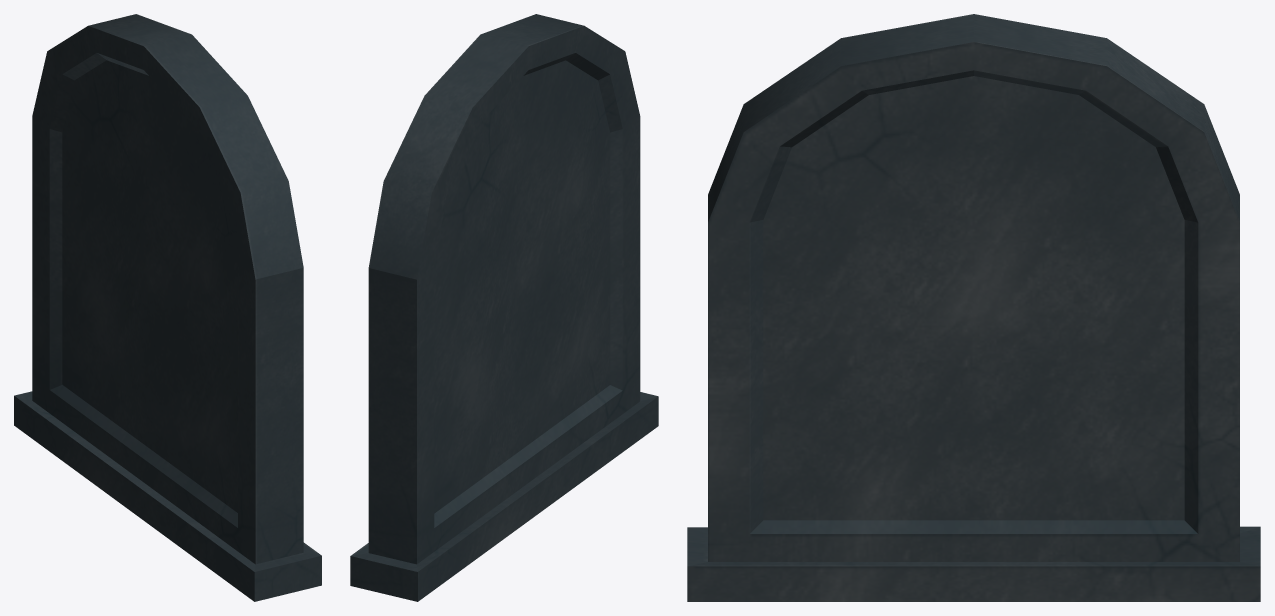
The model's file is Gravestone20_Model.fbx.
3 views of the same model, side by side, from view 1: azimuth 30°, elevation 25°; view 2: azimuth 150°, elevation 25°; view 3: azimuth 270°, elevation 25° (orthographic). The views are drawn at different scales.
Visible parts, largest first — view 1: Gravestone20; view 2: Gravestone20; view 3: Gravestone20.
Boxes of the visible parts, x1,y1,x2,y2 form: Gravestone20: (14, 14, 321, 601); Gravestone20: (350, 14, 658, 601); Gravestone20: (687, 14, 1260, 601).
Size of the model in its own units: 10.71 by 70.78 by 66.31.
